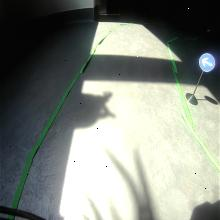left: (198, 53, 215, 73)
